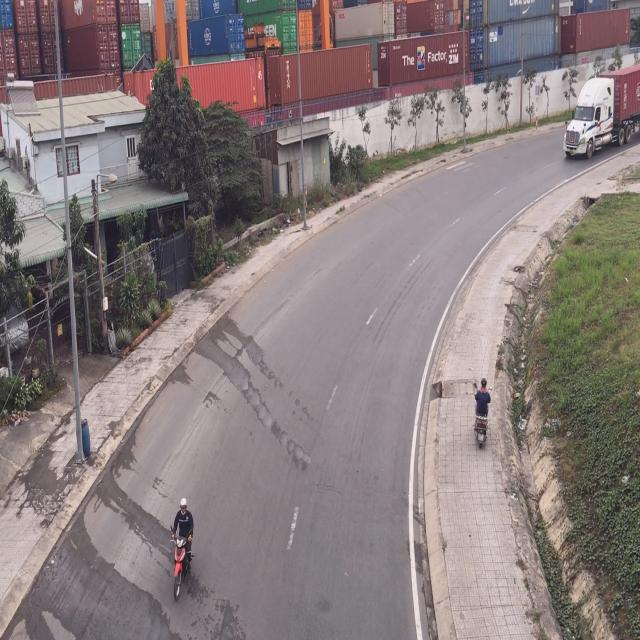motorbike: (172, 494, 196, 602), (473, 377, 490, 450)
truck: (562, 63, 638, 159)
